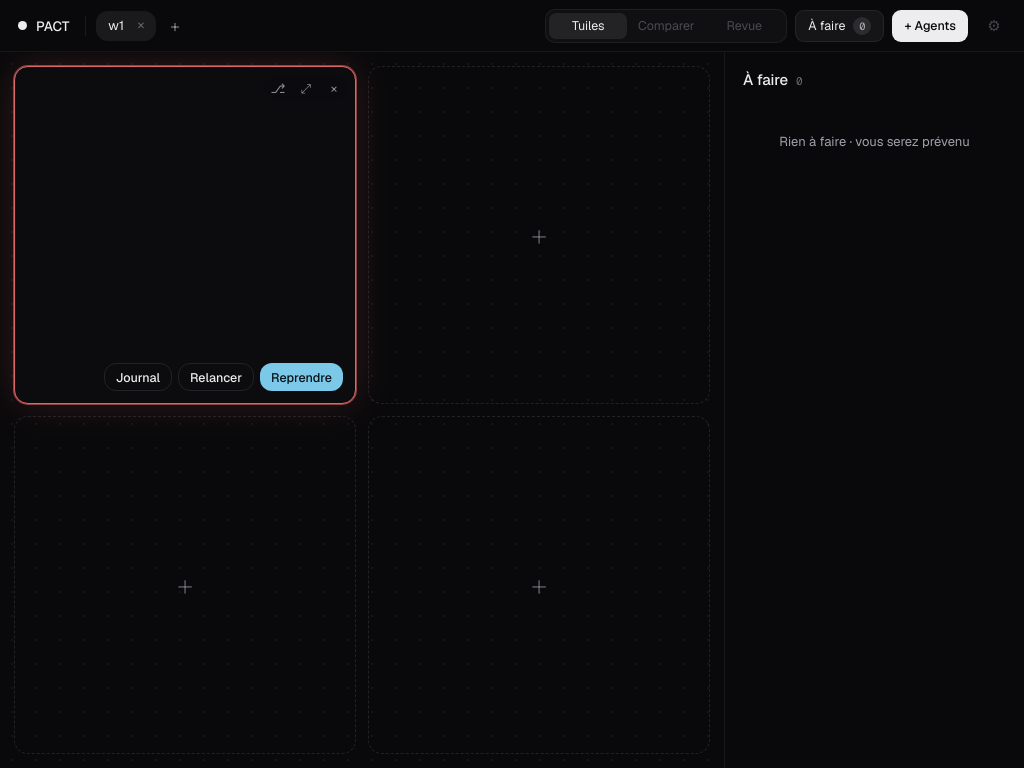
Test: App tile actions (US3) › cancels closing an agent
Click the button named "Fermer l’agent": (334, 88) [321,75,347,101]
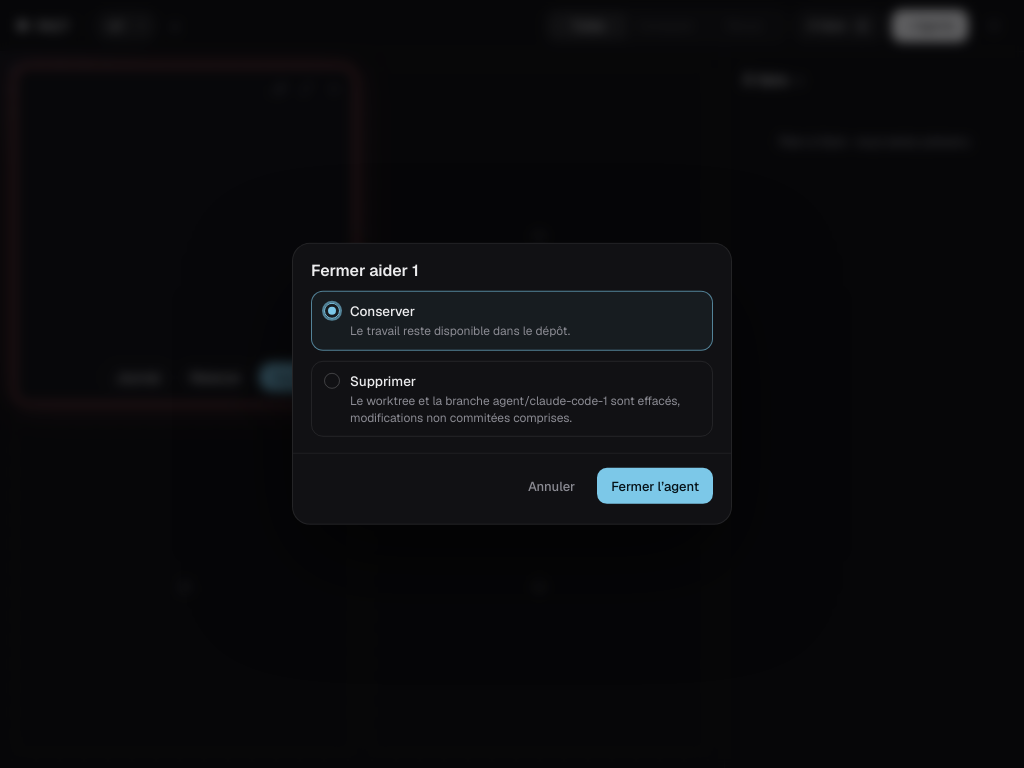
Click the button "Annuler": (552, 486) [514,468,589,504]
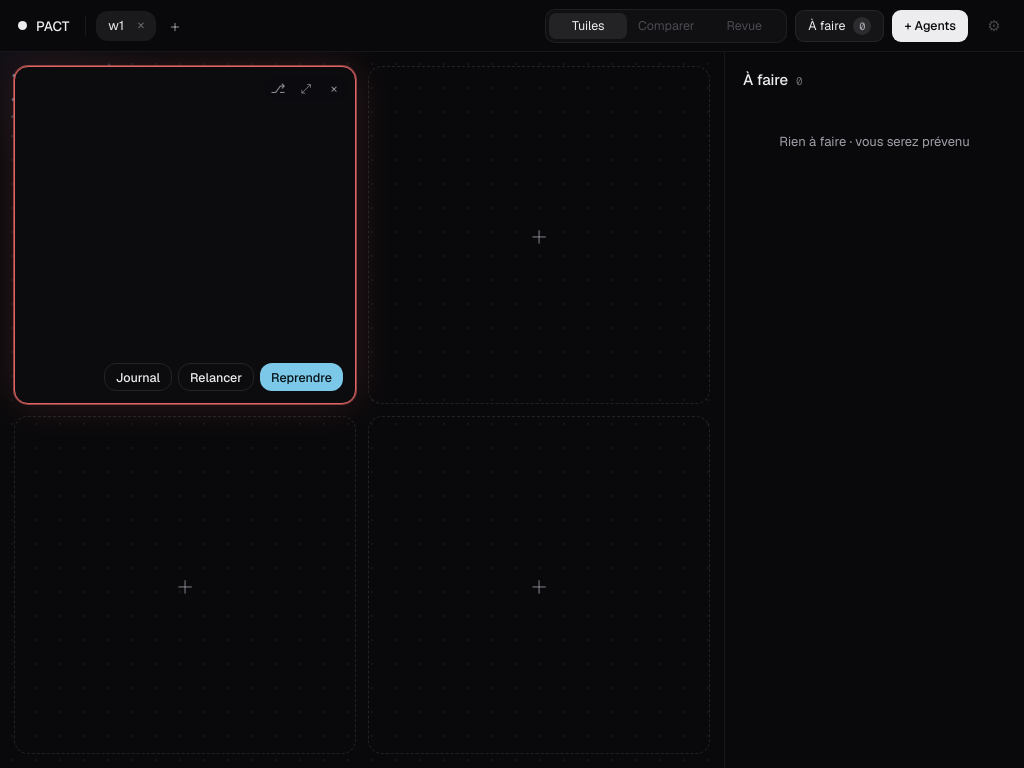
Check: the dialog is gone
